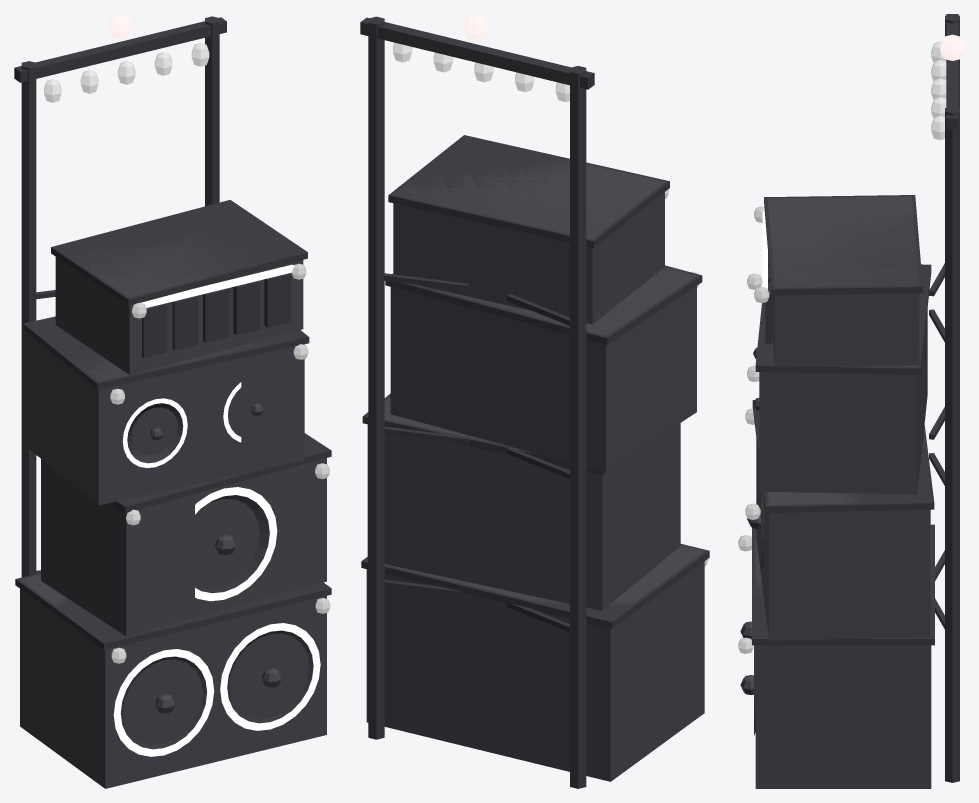
File: speaker_stack.glb
3 views of the same model, side by side, from view 1: azimuth 30°, elevation 25°; view 2: azimuth 150°, elevation 25°; view 3: azimuth 270°, elevation 25° (orthographic). The views are drawn at different scales.
Parts seen in each view (by area): view 1: speaker_stack; view 2: speaker_stack; view 3: speaker_stack.
Boxes of the visible parts, box(x1,y1,x2,y2) form: speaker_stack: box(14, 14, 331, 788); speaker_stack: box(360, 14, 709, 788); speaker_stack: box(738, 14, 964, 788).
Size of the model in its own units: 1.58 by 4.38 by 1.29.
Materials: 5 (1 with a texture image).
